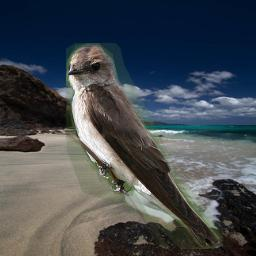Swallow: (66, 43, 223, 249)
